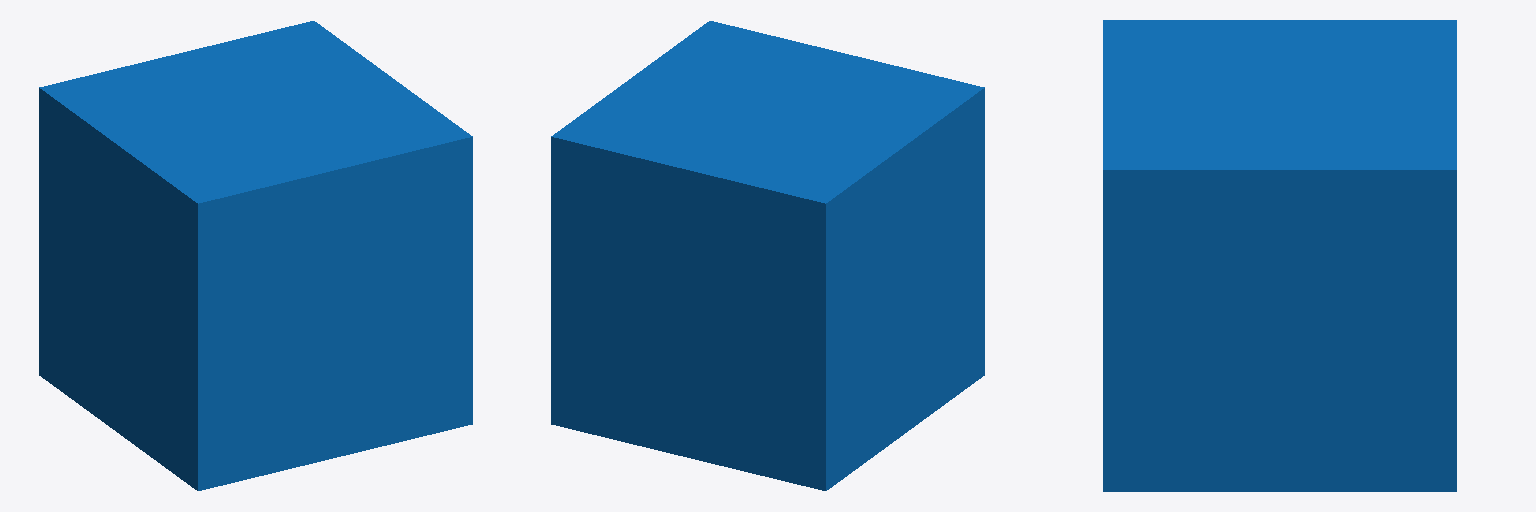
URDF robot description (cube):
<?xml version="0.0" ?>
<robot name="cube">
  <link name="baseLink">
    <contact>
      <lateral_friction value="1.0"/>
      <rolling_friction value="0.0"/>
      <contact_cfm value="0.0"/>
      <contact_erp value="1.0"/>
    </contact>
    <inertial>
      <mass value="0.020"/>
      <origin rpy="0 0 0" xyz="0 0 0"/>
      <inertia ixx="3e-06" ixy="0" ixz="0" iyy="3e-06" iyz="0" izz="3e-06"/>
    </inertial>
    <visual>
      <origin rpy="0 0 0" xyz="0 0 0"/>
      <geometry>
        <mesh filename="meshes/cube.obj"/>
      </geometry>
      <material name="white">
        <color rgba="0.1 0.5 0.8 1"/>
      </material>
    </visual>
    <collision>
      <origin rpy="0 0 0" xyz="0 0 0"/>
      <geometry>
        <mesh filename="meshes/cube.obj"/>
      </geometry>
    </collision>
  </link>
</robot>

--- What the picture shows (computed from the rendered views, not written in the file) ---
The picture shows the robot from 3 angles, left to right: view 1: azimuth 30°, elevation 25°; view 2: azimuth 150°, elevation 25°; view 3: azimuth 270°, elevation 25°; orthographic projection.
Robot: cube — 1 links, 0 joints (none); root link baseLink; default pose: all joints at 0.
Visible links, largest first — view 1: baseLink; view 2: baseLink; view 3: baseLink.
Boxes of the visible links, <box> form: baseLink: <box>39,21,472,490</box>; baseLink: <box>551,21,984,490</box>; baseLink: <box>1103,20,1456,491</box>.
Size in the robot's own frame: 0.03 by 0.03 by 0.03 metres.
Meshes: 1 distinct files referenced, 1 mesh visuals loaded (1 OBJ).